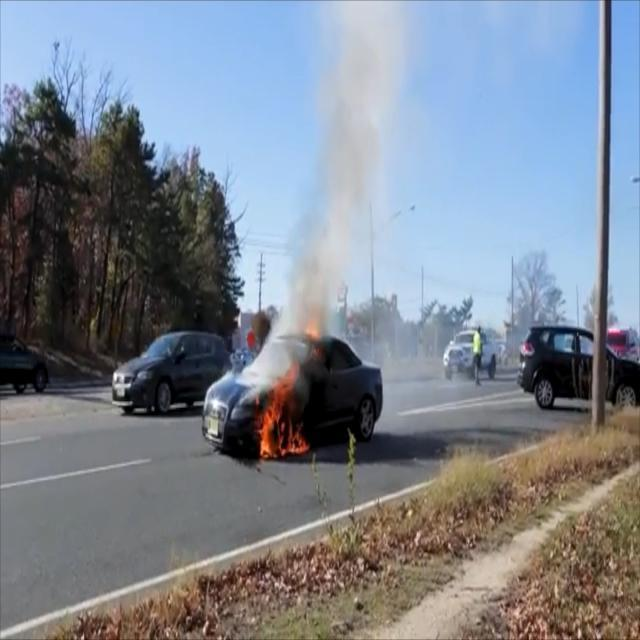fire: (258, 318, 326, 459)
